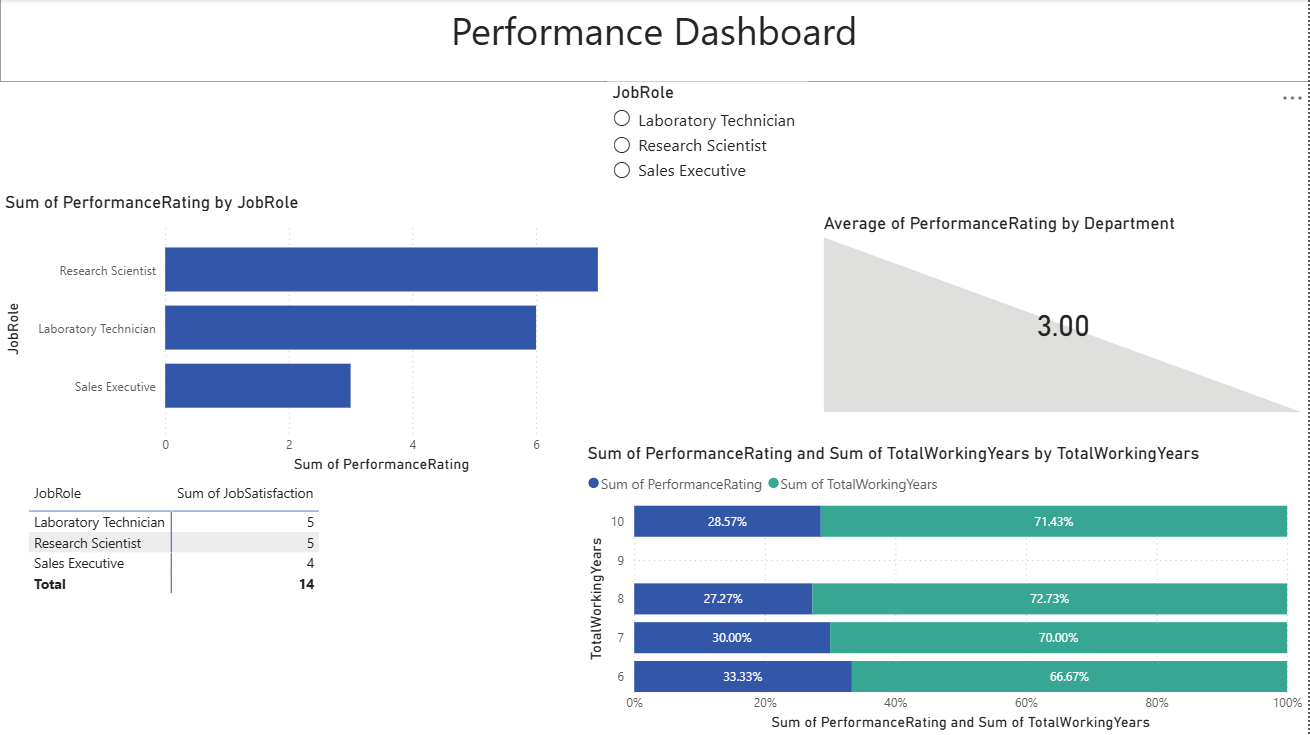

This screenshot's page, from the dashboard's own definition file:
{"tool":"powerbi","page":{"name":"Page 2","canvas":[1280,720],"ordinal":1},"visuals":[{"type":"barChart","fields":{"Category":["Sheet1.JobRole"],"Y":["Sum(Sheet1.PerformanceRating)"]},"box":[0,187.8,594.1,279.7],"z":0},{"type":"pivotTable","fields":{"Rows":["Sheet1.JobRole"],"Values":["Sum(Sheet1.JobSatisfaction)"]},"box":[23.7,467.5,535.7,253.2],"z":1},{"type":"hundredPercentStackedBarChart","fields":{"Category":["Sheet1.TotalWorkingYears"],"Y":["Sum(Sheet1.PerformanceRating)","Sum(Sheet1.TotalWorkingYears)"]},"box":[570.4,434.1,709.6,286.6],"z":2},{"type":"kpi","fields":{"Indicator":["Avg(Sheet1.PerformanceRating)"],"TrendLine":["Sheet1.Department"]},"box":[801,209.1,478.1,200.5],"z":3},{"type":"textbox","box":[0,0,1280,80.7],"z":4},{"type":"listSlicer","fields":{"Values":["Sheet1.JobRole"]},"box":[594.3,80.7,195.7,228.7],"z":5}]}

Visuals, with their boxes in screenshot pixels (x1, y1, x2, y2), scaled from the page's 1280x720 canvas onto the 1310x735 screenshot:
barChart - Sheet1.JobRole x Sum(Sheet1.PerformanceRating): [left=0, top=192, right=608, bottom=477]
pivotTable - Sheet1.JobRole x Sum(Sheet1.JobSatisfaction): [left=24, top=477, right=573, bottom=734]
hundredPercentStackedBarChart - Sheet1.TotalWorkingYears x Sum(Sheet1.PerformanceRating): [left=584, top=443, right=1309, bottom=734]
kpi - Avg(Sheet1.PerformanceRating) x Sheet1.Department: [left=820, top=213, right=1309, bottom=418]
textbox: [left=0, top=0, right=1309, bottom=82]
listSlicer - Sheet1.JobRole: [left=608, top=82, right=809, bottom=316]
